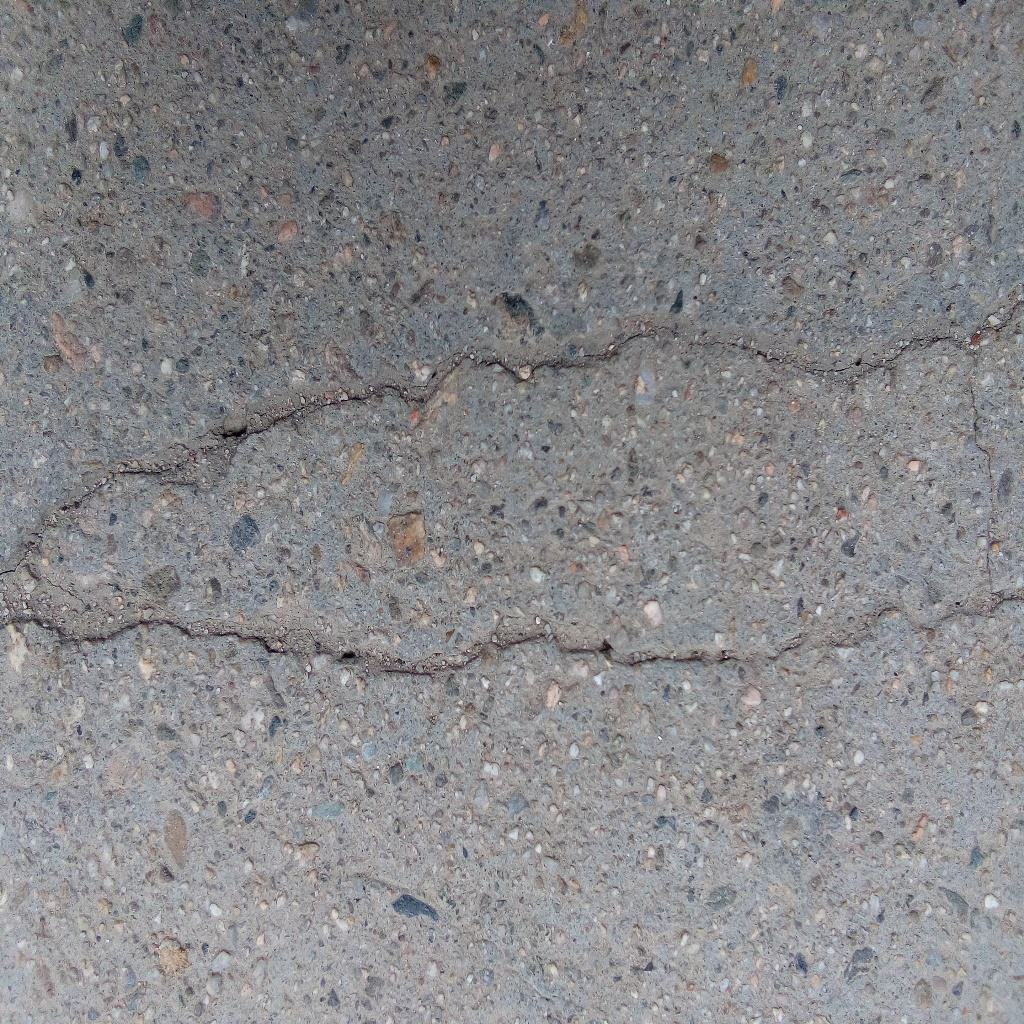Crack: (1, 295, 1024, 578), (1, 591, 1024, 678), (968, 353, 995, 593)
